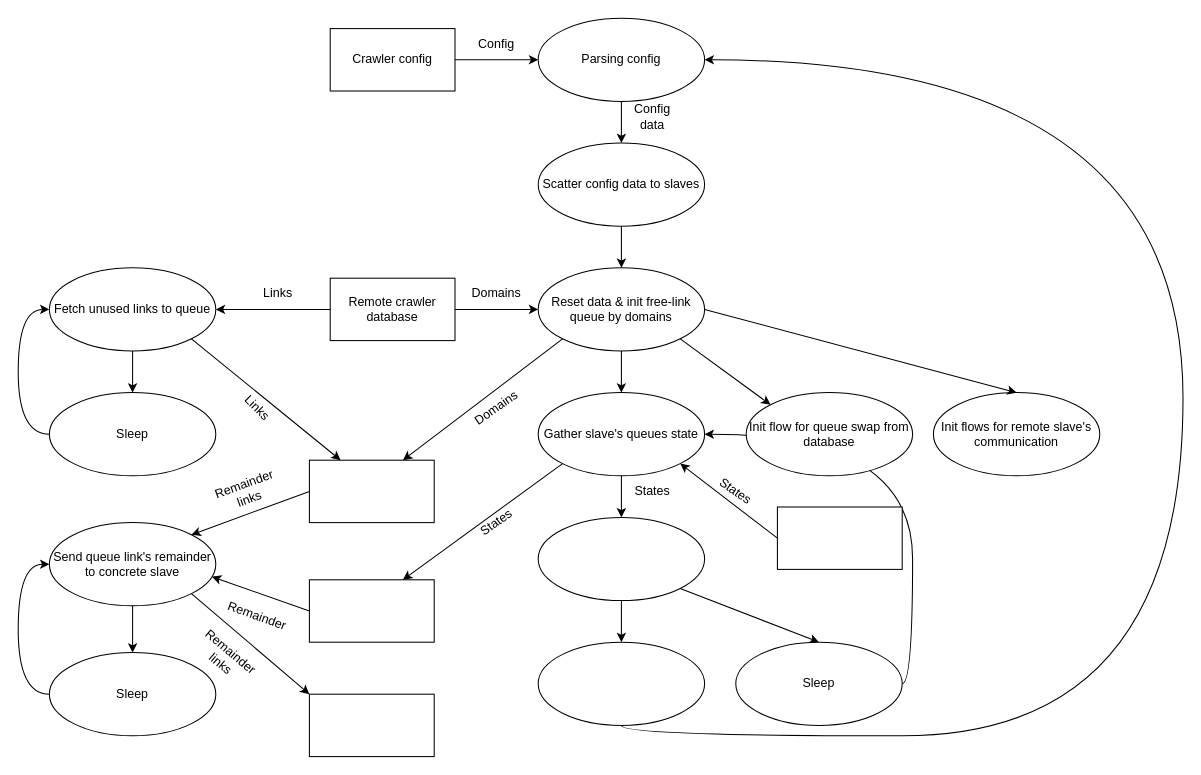
This 1201x775 diagram has some shape labels left out. Here are the shapes that lost their labels. From the top down, the box of each, then its label:
(308, 459, 434, 523): Links lock-free queue
(776, 506, 902, 569): Crawler's slave nodes
(537, 516, 705, 601): Check continue conditions
(308, 579, 434, 642): Slave's queues state
(537, 641, 705, 725): Stop crawler executing
(308, 693, 434, 757): Concrete slave node
